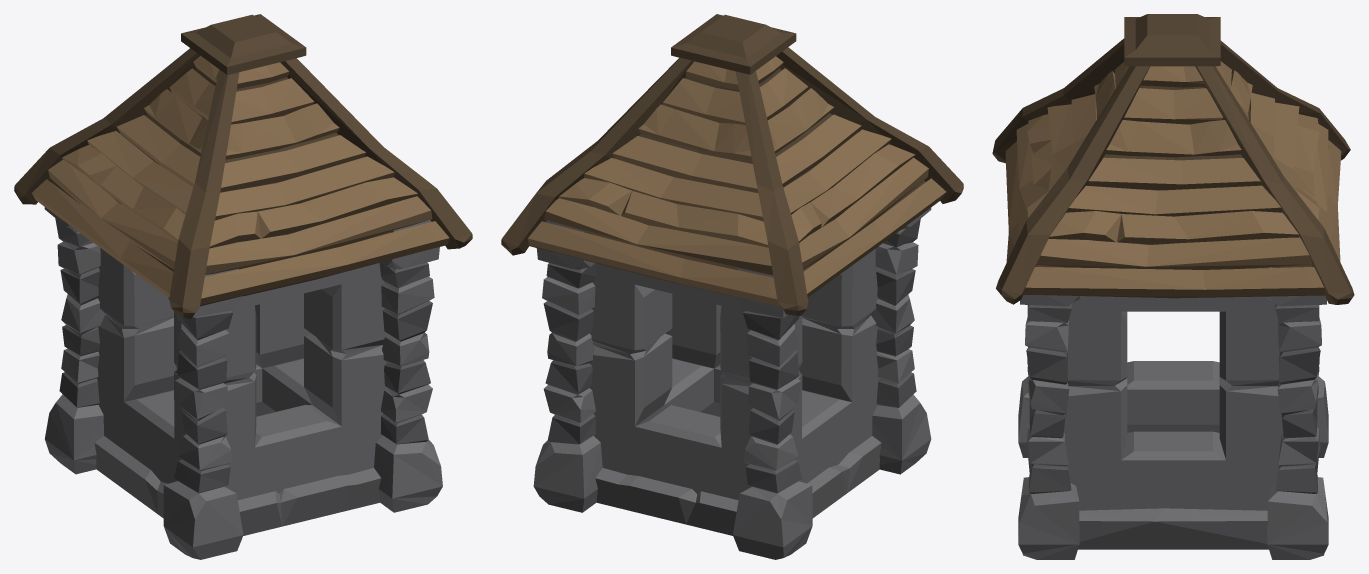
The model's file is SM_Bld_Church_Tower_02_Lite.gltf.
The picture shows the model from 3 angles, left to right: view 1: azimuth 30°, elevation 25°; view 2: azimuth 150°, elevation 25°; view 3: azimuth 270°, elevation 25°; orthographic projection. The views are drawn at different scales.
Parts seen in each view (by area): view 1: SM_Bld_Church_Tower_02_Lite; view 2: SM_Bld_Church_Tower_02_Lite; view 3: SM_Bld_Church_Tower_02_Lite.
Part boxes in pixels (left/top/right/bottom): SM_Bld_Church_Tower_02_Lite: left=14, top=14, right=472, bottom=559; SM_Bld_Church_Tower_02_Lite: left=501, top=14, right=963, bottom=559; SM_Bld_Church_Tower_02_Lite: left=992, top=14, right=1354, bottom=559.
Bounding box in the file's own units: 3.59 × 5.12 × 3.56.
1 material, 1 textured.
